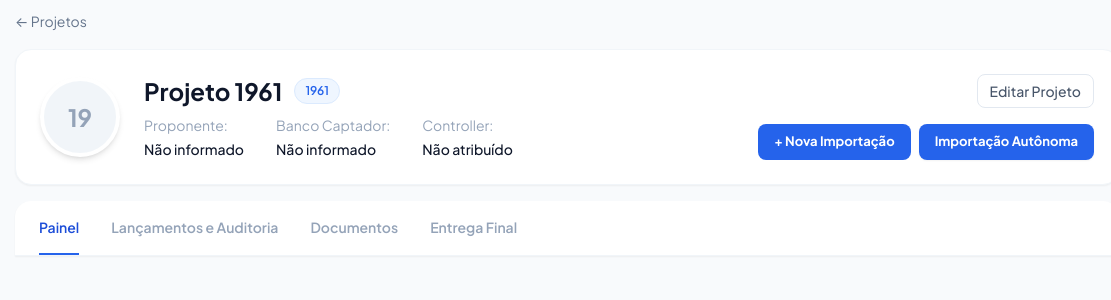
ProjetoDetalhes - importação autônoma › encerra o polling e preserva a página ao mostrar a falha retornada pelo backend
Click the button "Importação Autônoma": (1006, 142) [919, 124, 1094, 160]
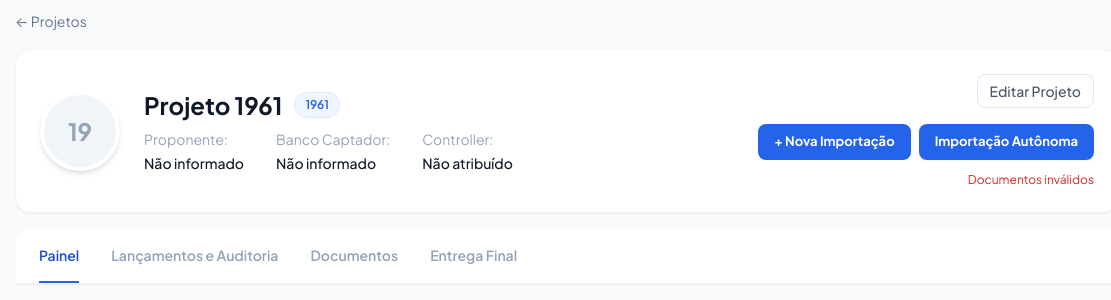
expect the heading "Projeto 1961" is shown: met, box [144, 89, 282, 121]
expect the message reads "Documentos inválidos": met, box [968, 172, 1094, 186]
